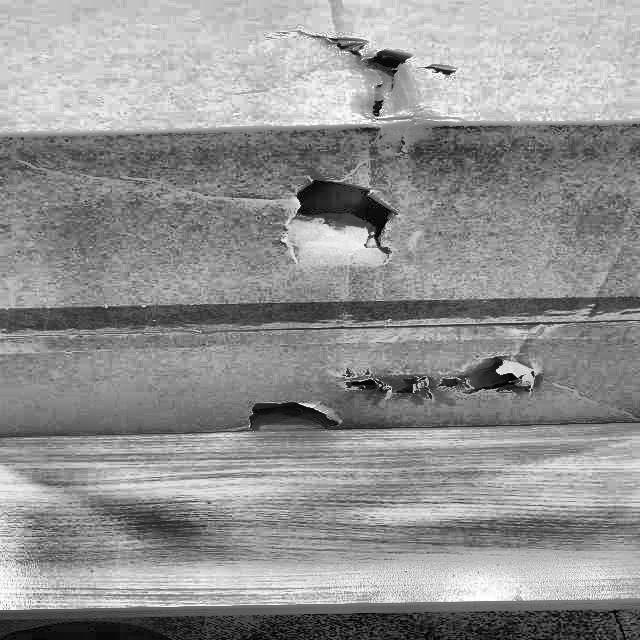box: (0, 0, 639, 449)
hole: (278, 172, 422, 265), (317, 29, 471, 102), (343, 352, 542, 406), (232, 392, 372, 434)
